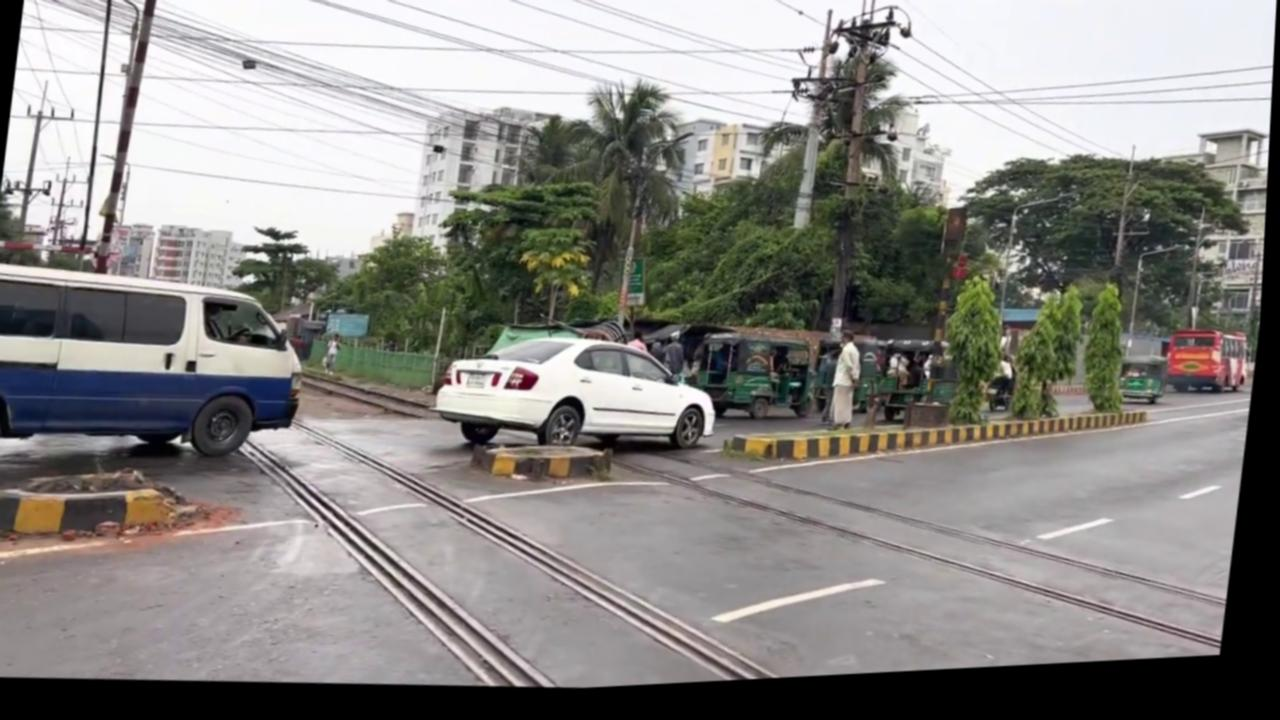Bollard: (0, 238, 339, 485), (432, 328, 729, 470)
Car: (730, 391, 1155, 497), (488, 443, 609, 493)
Fence: (828, 337, 869, 441), (324, 335, 346, 379)
Garbage: (825, 0, 887, 346), (94, 0, 161, 276), (73, 0, 120, 271), (794, 16, 838, 239)
Motorcycle: (216, 392, 839, 710), (590, 425, 1249, 690)
Railroad-crossing: (547, 76, 699, 336), (937, 278, 1014, 439), (1010, 292, 1091, 434), (1080, 289, 1141, 427)
Rickshaw: (689, 331, 835, 435)
